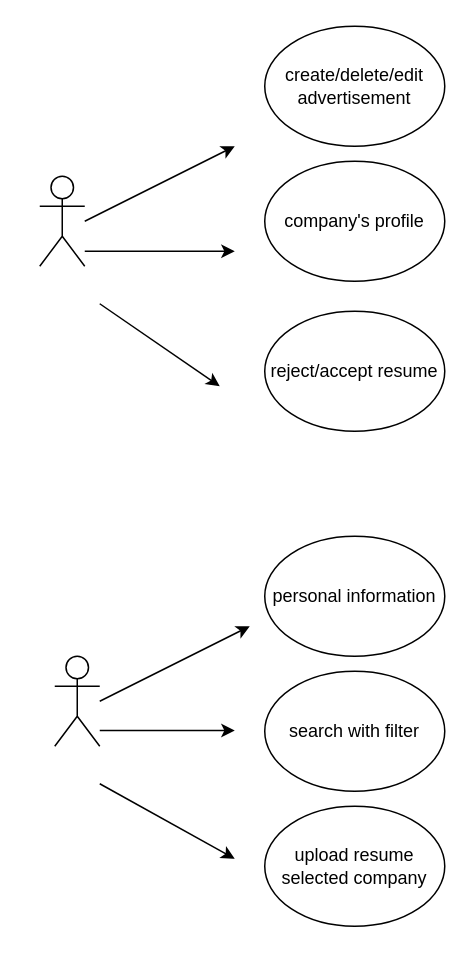
This 471x953 diagram has some shape labels left out. Each missing label, with the centre of its shape:
employer: (x=61, y=220)
job seeker: (x=76, y=700)
